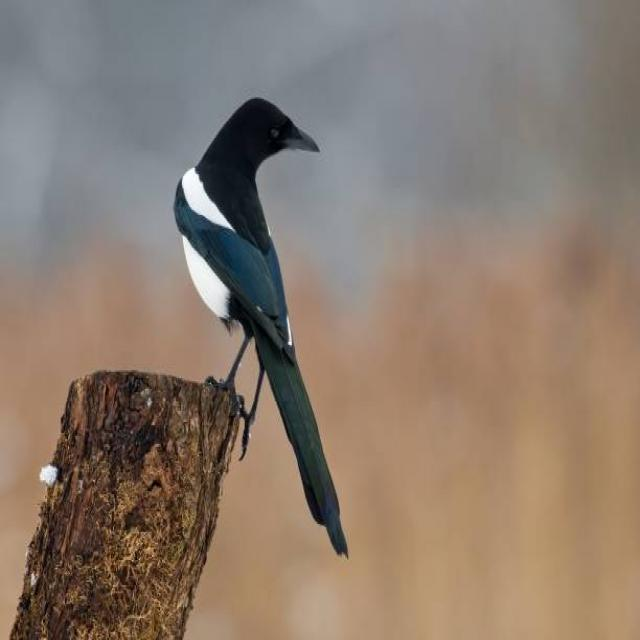Magpie: (173, 92, 355, 568)
